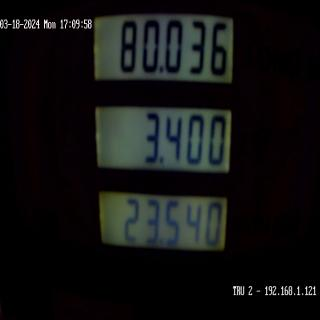screen: (88, 7, 242, 269)
